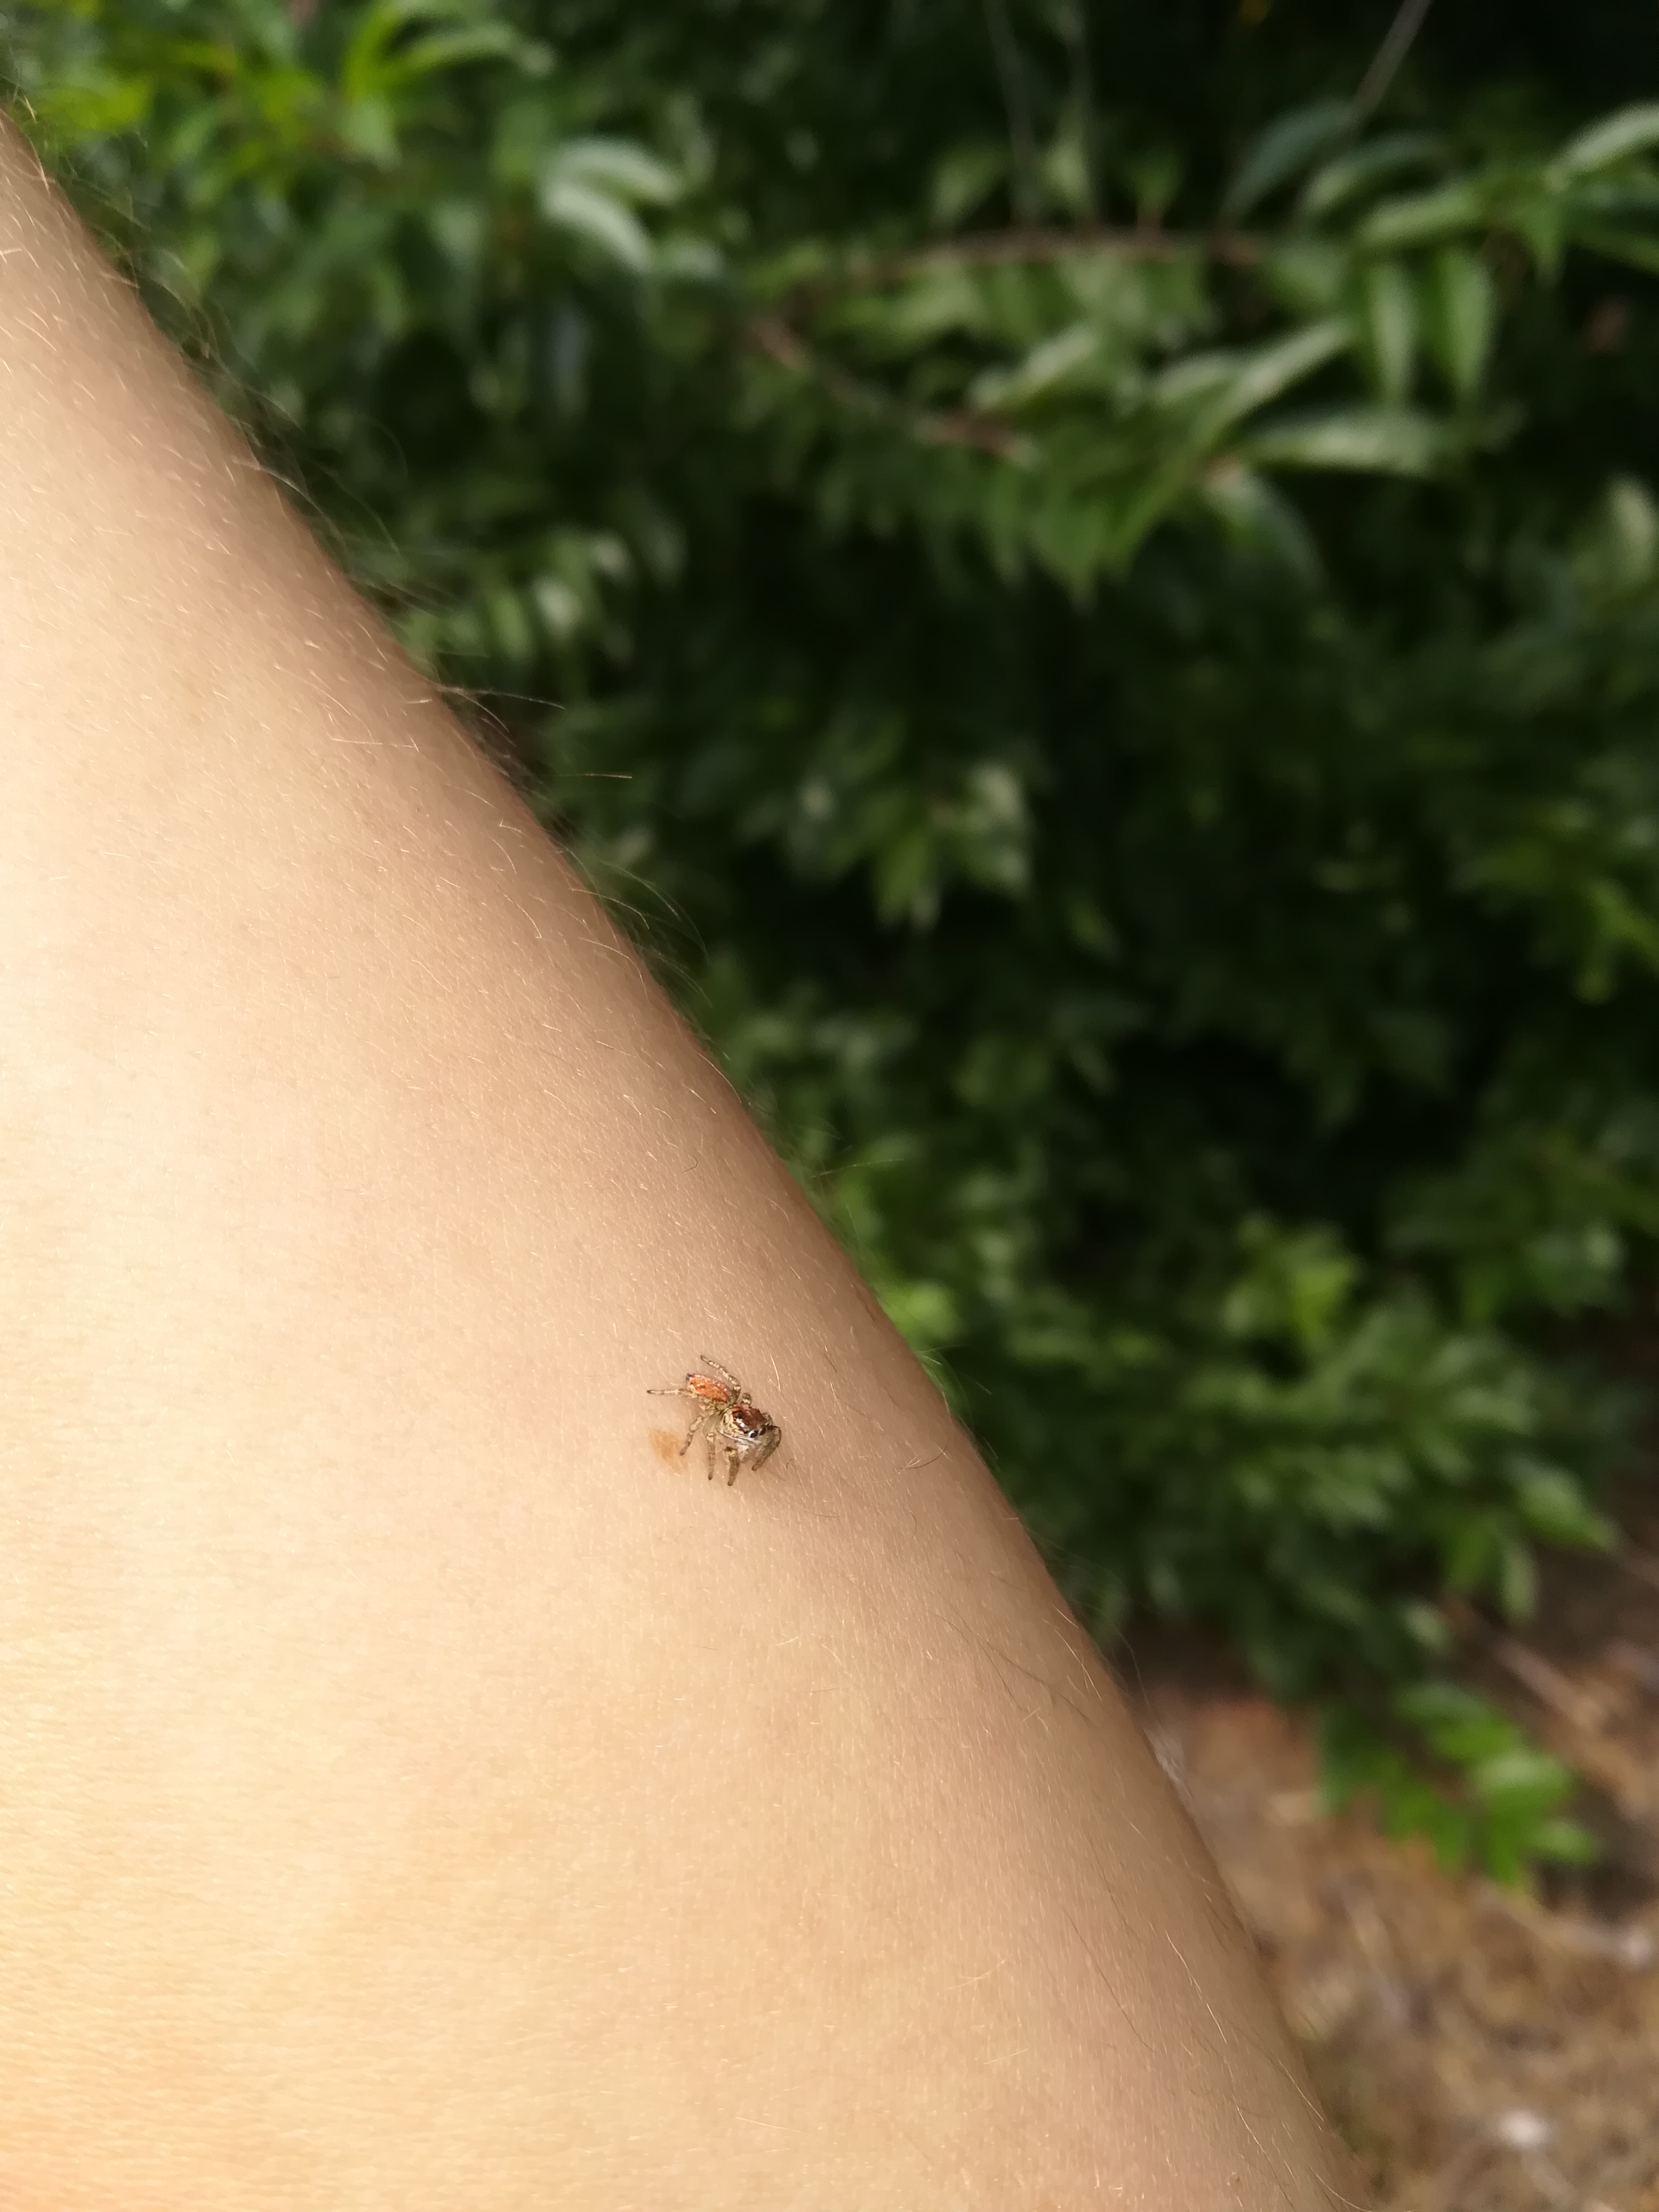spider: (643, 1329, 821, 1505)
